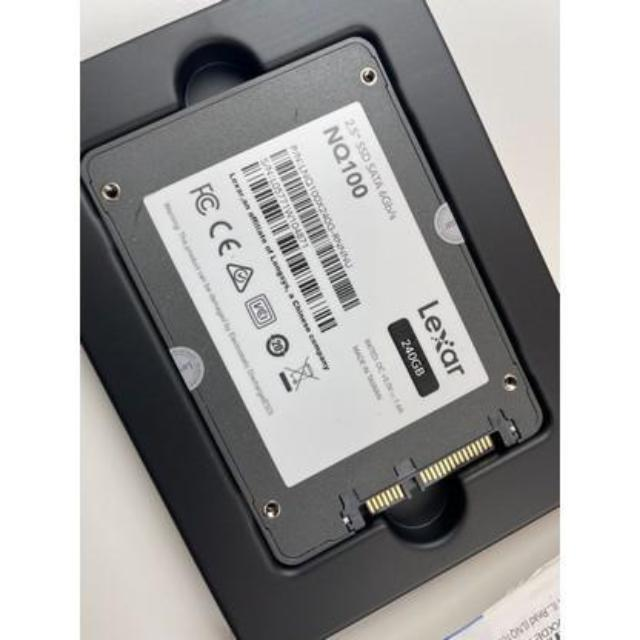DISK: (69, 32, 551, 570)
